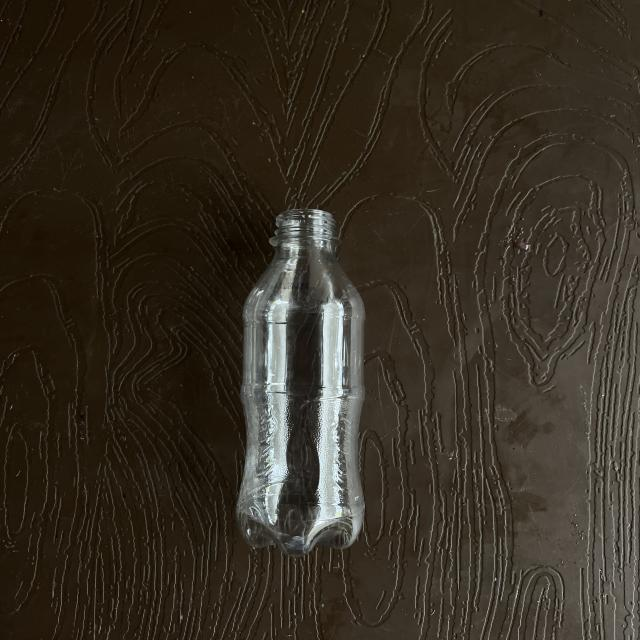PET_ClearBottle: (224, 206, 411, 556)
